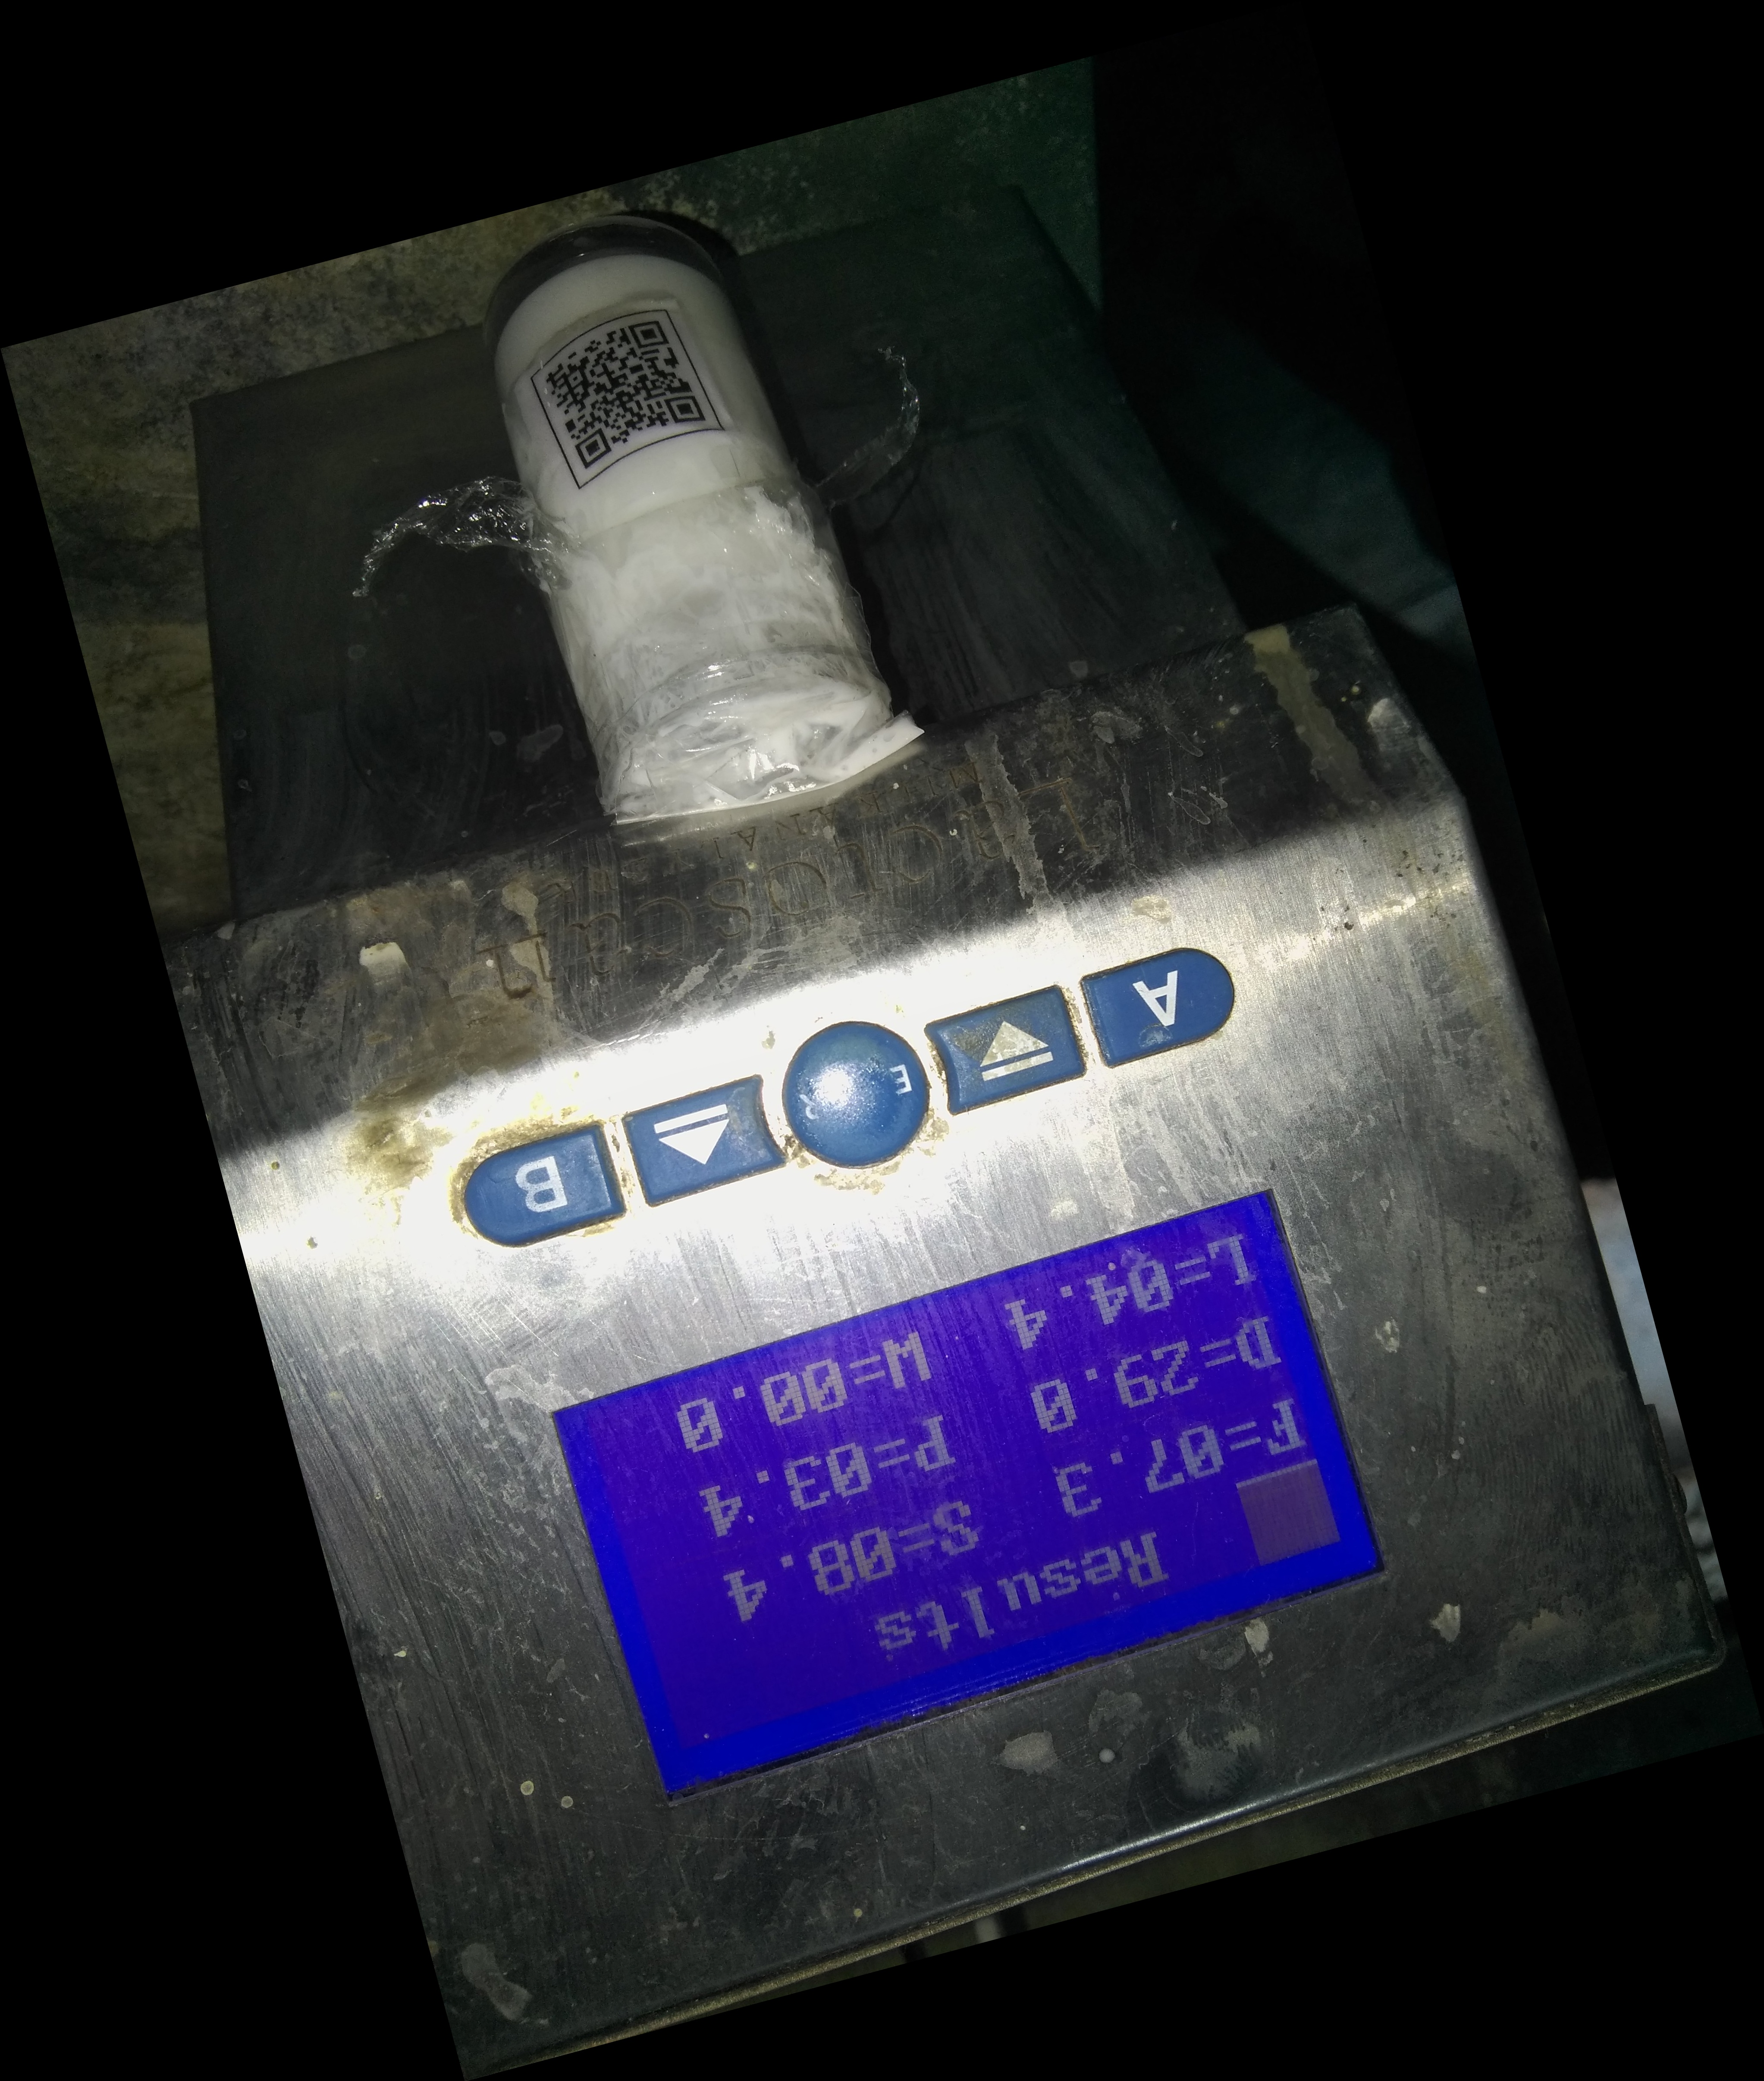lcd: (532, 1164, 1428, 1827)
qr: (518, 287, 747, 487)
